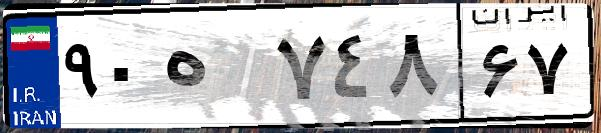0: (110, 28, 158, 98)
4: (330, 28, 385, 110)
6: (475, 38, 525, 113)
7: (270, 28, 330, 110), (525, 38, 570, 115)
8: (385, 28, 445, 110)
9: (57, 26, 110, 100)
ه: (158, 20, 270, 120)
